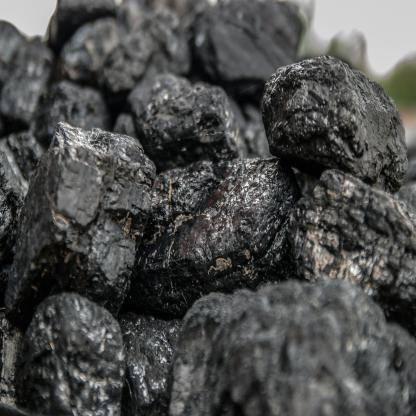Sedimentary_coal: (161, 278, 416, 416), (12, 115, 146, 303), (259, 58, 403, 190), (138, 75, 279, 179), (20, 292, 128, 416)
